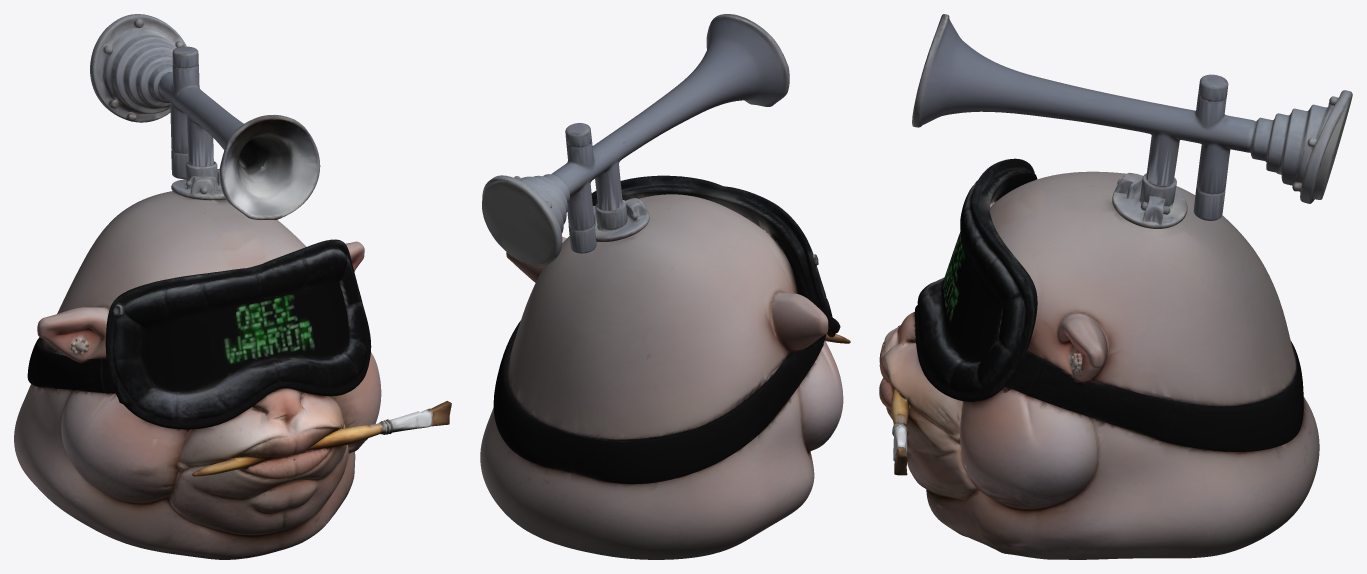
The model's file is obesewarrior.glb.
The picture shows the model from 3 angles, left to right: view 1: azimuth 30°, elevation 25°; view 2: azimuth 150°, elevation 25°; view 3: azimuth 270°, elevation 25°; orthographic projection. The views are drawn at different scales.
Parts seen in each view (by area): view 1: node_0_reduced; view 2: node_0_reduced; view 3: node_0_reduced.
Part boxes in pixels (bbox=[...]): node_0_reduced: bbox=[14, 14, 451, 559]; node_0_reduced: bbox=[480, 14, 850, 559]; node_0_reduced: bbox=[879, 14, 1352, 559].
Bounding box in the file's own units: 1.46 × 1.88 × 1.67.
Materials: 2 (2 with a texture image).
